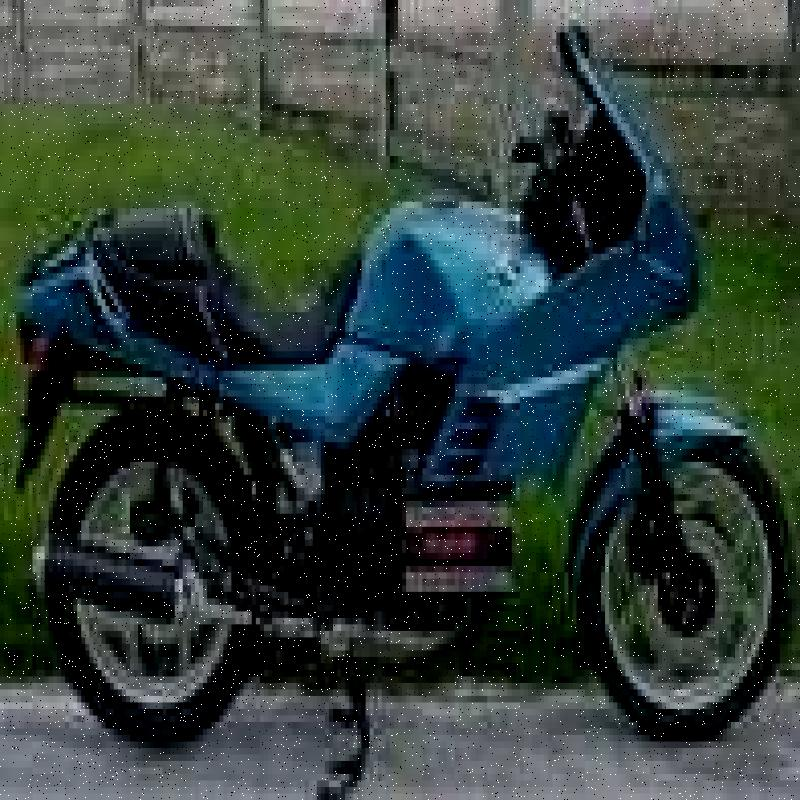bike: (0, 2, 800, 800)
